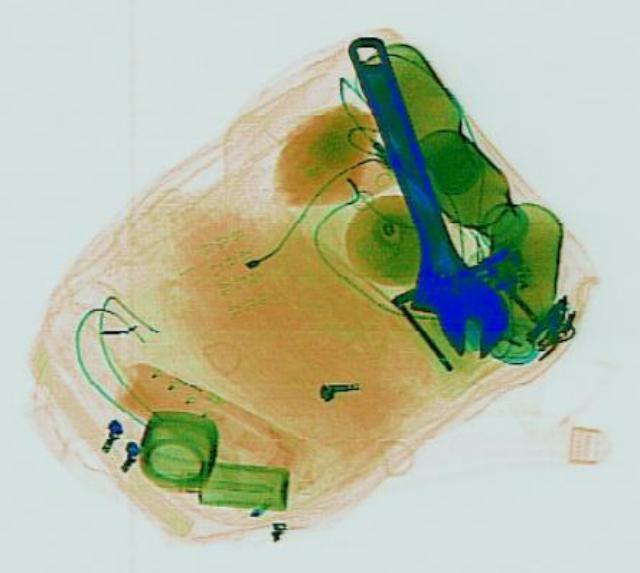Wrench: (317, 24, 521, 367)
